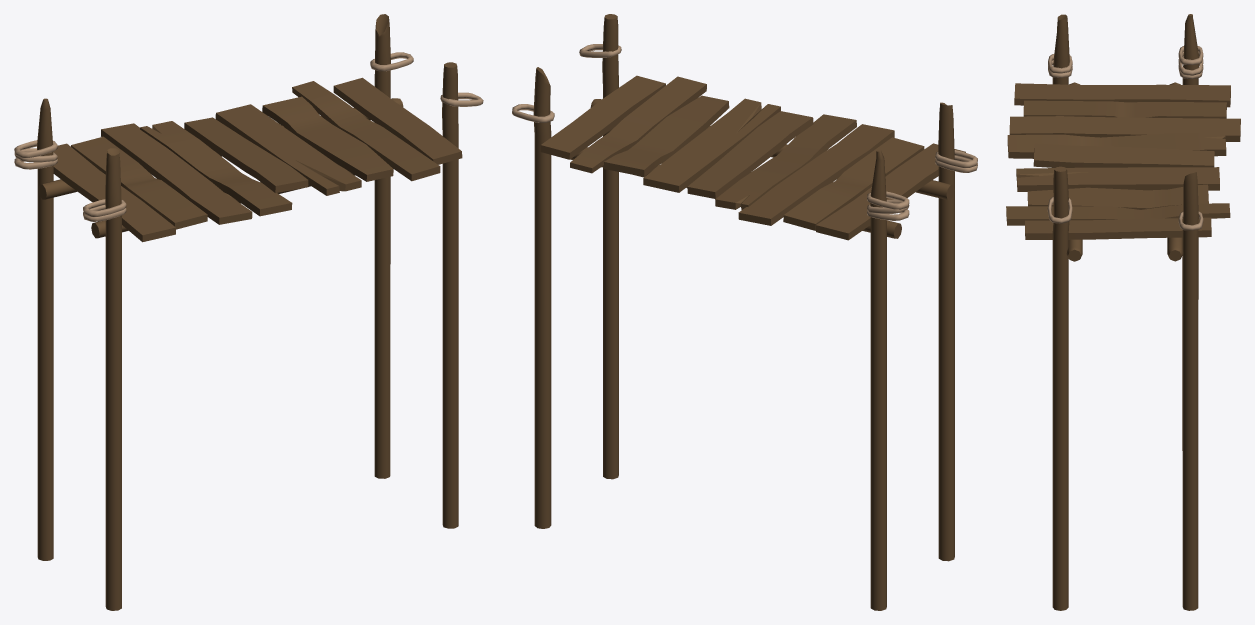
The model's file is woodenBridge_straight_mesh.fbx.
The picture shows the model from 3 angles, left to right: view 1: azimuth 30°, elevation 25°; view 2: azimuth 150°, elevation 25°; view 3: azimuth 270°, elevation 25°; orthographic projection. The views are drawn at different scales.
Parts seen in each view (by area): view 1: straight; view 2: straight; view 3: straight.
Boxes of the visible parts, left/top/right/bottom form: straight: left=14, top=14, right=483, bottom=610; straight: left=512, top=14, right=977, bottom=610; straight: left=1006, top=14, right=1240, bottom=610.
Bounding box in the file's own units: 1.11 × 1.23 × 0.5969.
